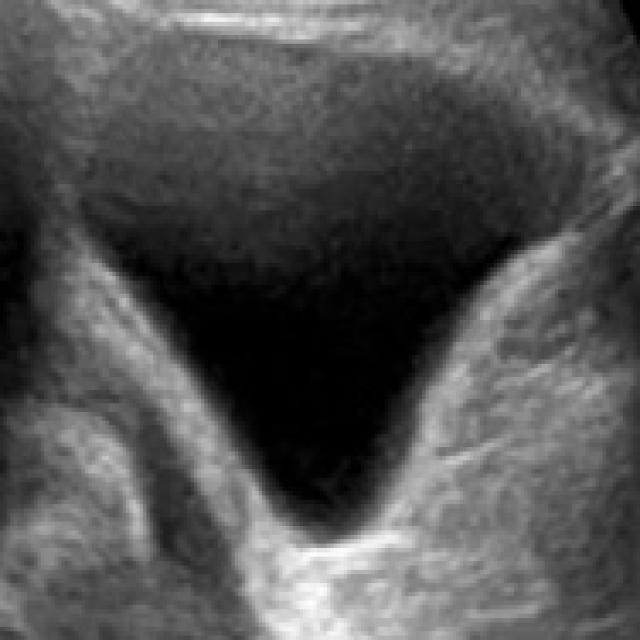bladder: (59, 9, 625, 612)
